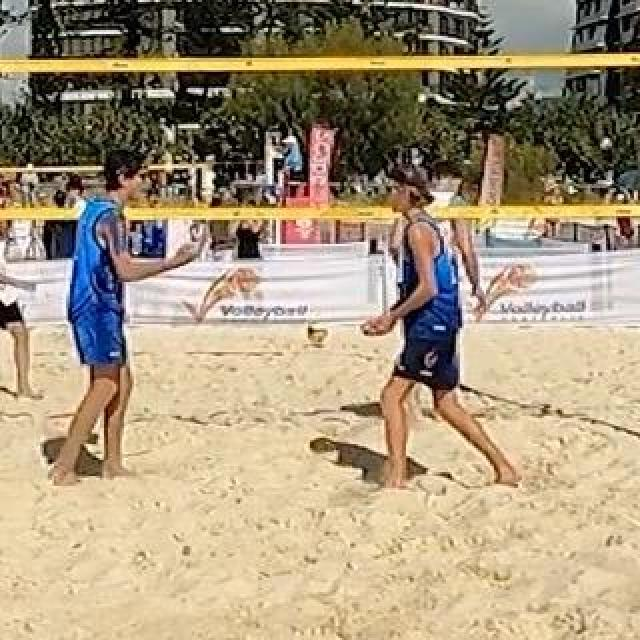volleyball: (306, 321, 330, 345)
